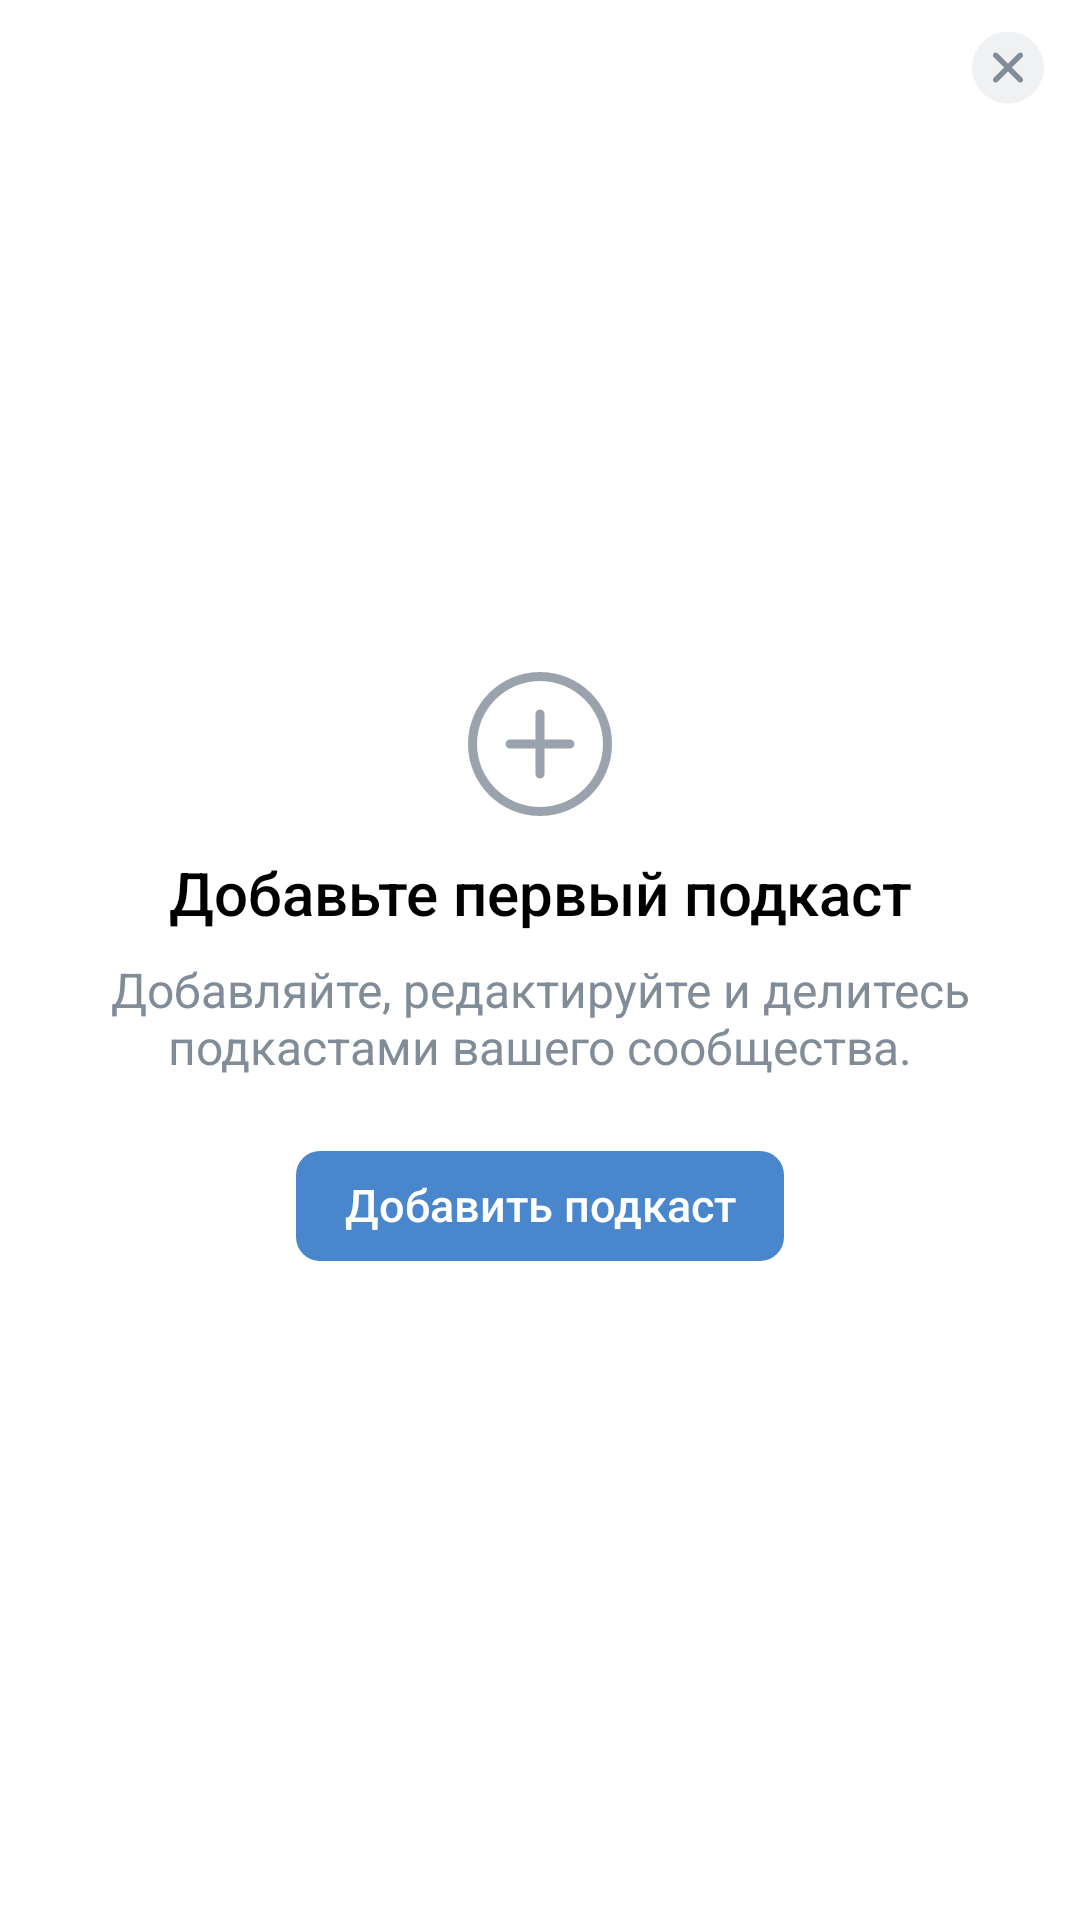

Where to tap for icons on this 1080px×1920px app screen, as (x,y):
add circle: (540,744)
close: (1008,67)
